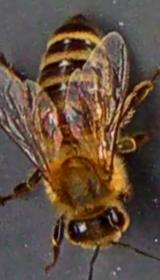varroa_mite: (38, 110, 66, 130)
